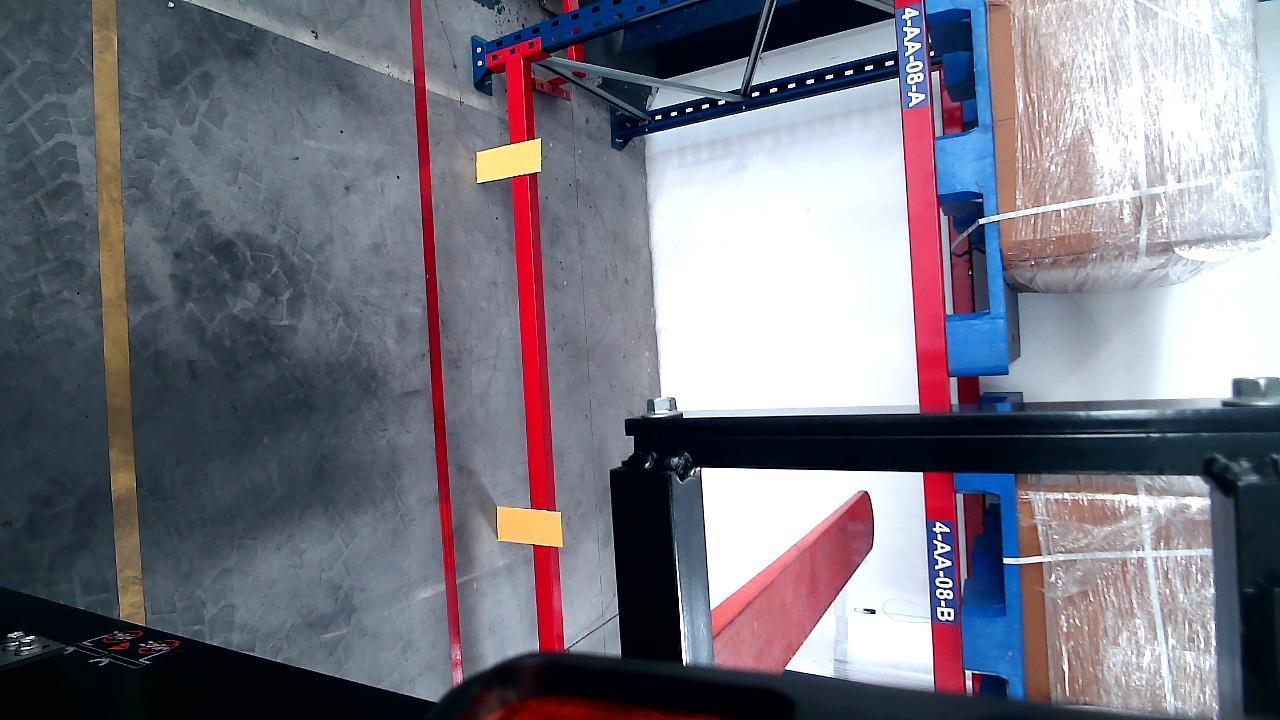red_line: (408, 1, 464, 686)
yellow_line: (90, 0, 146, 628)
